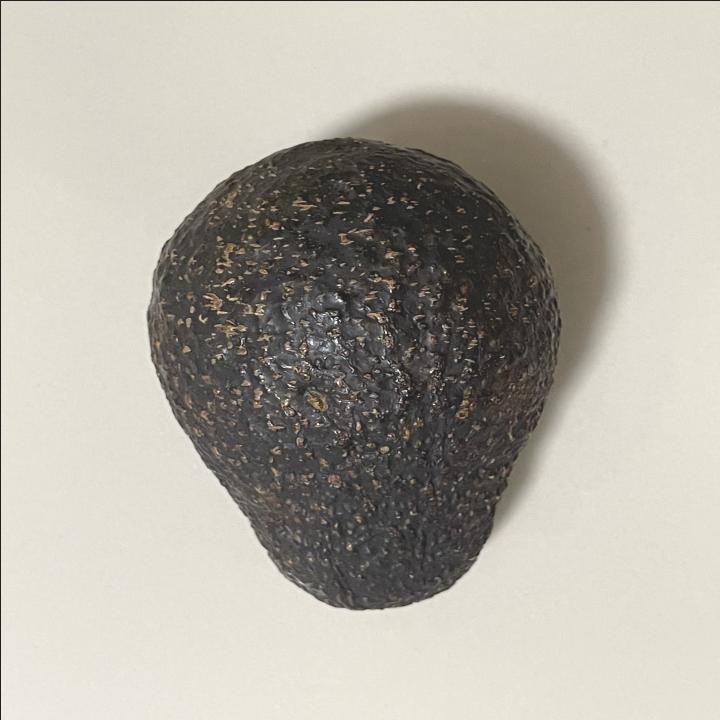Level2: (139, 130, 569, 618)
